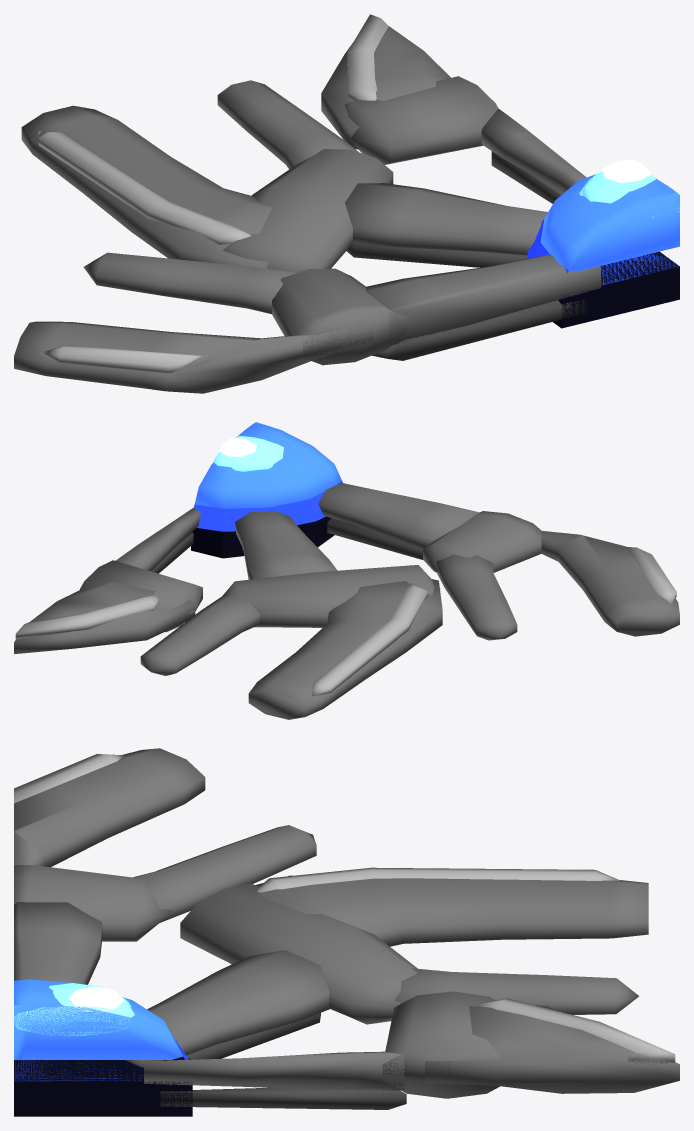
The model's file is newsh-hash-157.glb.
3 views of the same model, one above another, from view 1: azimuth 30°, elevation 25°; view 2: azimuth 150°, elevation 25°; view 3: azimuth 270°, elevation 25° (orthographic). The views are drawn at different scales.
Visible parts, largest first — view 1: newsh-hash-157; view 2: newsh-hash-157; view 3: newsh-hash-157.
Part boxes in pixels (box(x1,y1,x2,y2)): newsh-hash-157: box(14, 14, 679, 393); newsh-hash-157: box(14, 422, 679, 719); newsh-hash-157: box(14, 748, 679, 1116).
Size of the model in its own units: 1.91 by 0.33 by 1.71.
